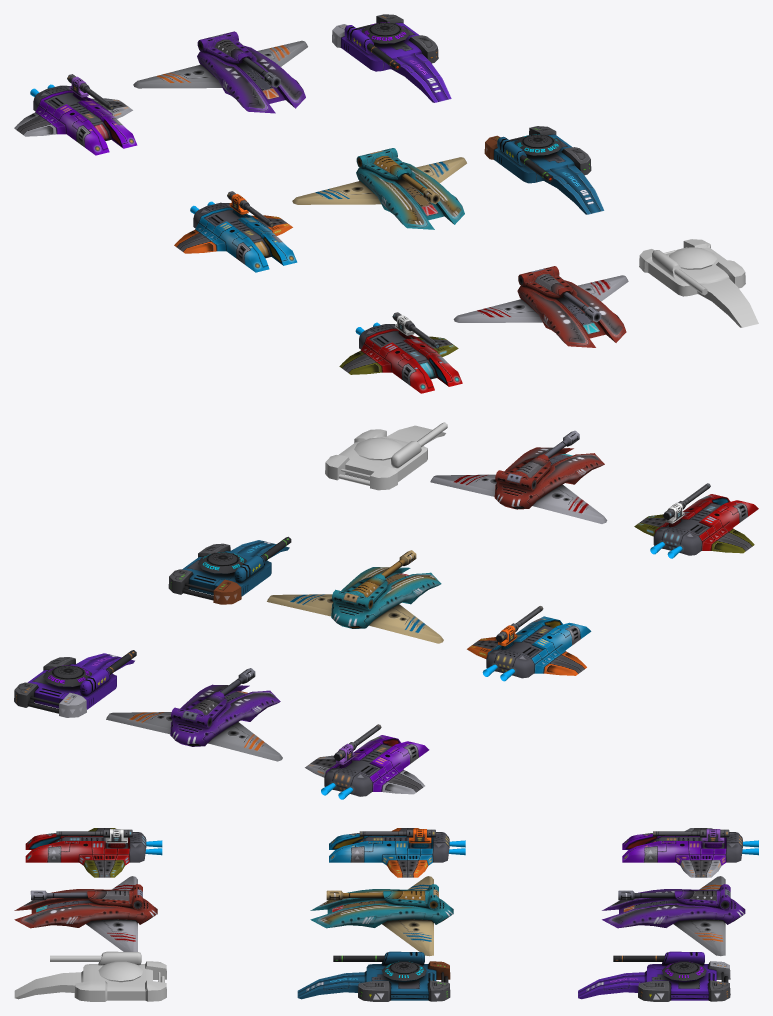
Rendered from SciFi Starship Set 3.FBX.
3 views of the same model, one above another, from view 1: azimuth 30°, elevation 25°; view 2: azimuth 150°, elevation 25°; view 3: azimuth 270°, elevation 25° (orthographic). The views are drawn at different scales.
Parts seen in each view (by area): view 1: SciFi Starship 8.3, SciFi Starship 8.2, SciFi Starship 8, SciFi Starship 7.3, SciFi Starship 7.2, SciFi Starship 7, SciFi Starship 9.2, SciFi Starship 9, SciFi Starship 9.3; view 2: SciFi Starship 8.3, SciFi Starship 8.2, SciFi Starship 8, SciFi Starship 7.2, SciFi Starship 7, SciFi Starship 7.3, SciFi Starship 9.2, SciFi Starship 9, SciFi Starship 9.3; view 3: SciFi Starship 8.3, SciFi Starship 8.2, SciFi Starship 8, SciFi Starship 9.2, SciFi Starship 9.3, SciFi Starship 9, SciFi Starship 7, SciFi Starship 7.2, SciFi Starship 7.3.
Part boxes in pixels (x1,y1,x2,y2): SciFi Starship 8.3: (133,31,307,113); SciFi Starship 8.2: (292,148,466,229); SciFi Starship 8: (453,266,628,347); SciFi Starship 7.3: (14,74,137,155); SciFi Starship 7.2: (174,191,297,272); SciFi Starship 7: (339,312,462,393); SciFi Starship 9.2: (484,126,604,214); SciFi Starship 9: (639,239,758,327); SciFi Starship 9.3: (332,14,451,102); SciFi Starship 8.3: (106,668,282,761); SciFi Starship 8.2: (267,550,443,643); SciFi Starship 8: (430,430,607,523); SciFi Starship 7.2: (467,606,591,678); SciFi Starship 7: (634,483,758,555); SciFi Starship 7.3: (305,724,429,796); SciFi Starship 9.2: (168,536,291,604); SciFi Starship 9: (325,422,447,490); SciFi Starship 9.3: (14,650,136,717); SciFi Starship 8.3: (602,876,745,956); SciFi Starship 8.2: (310,876,453,956); SciFi Starship 8: (14,876,157,951); SciFi Starship 9.2: (297,951,450,1001); SciFi Starship 9.3: (578,951,730,1001); SciFi Starship 9: (14,951,166,1001); SciFi Starship 7: (25,828,146,877); SciFi Starship 7.2: (329,828,449,877); SciFi Starship 7.3: (622,828,742,877).
Bounding box in the file's own units: 928 × 99.38 × 1675.
